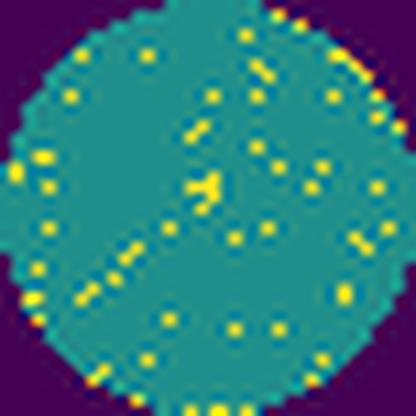Center: (182, 172, 229, 221)
